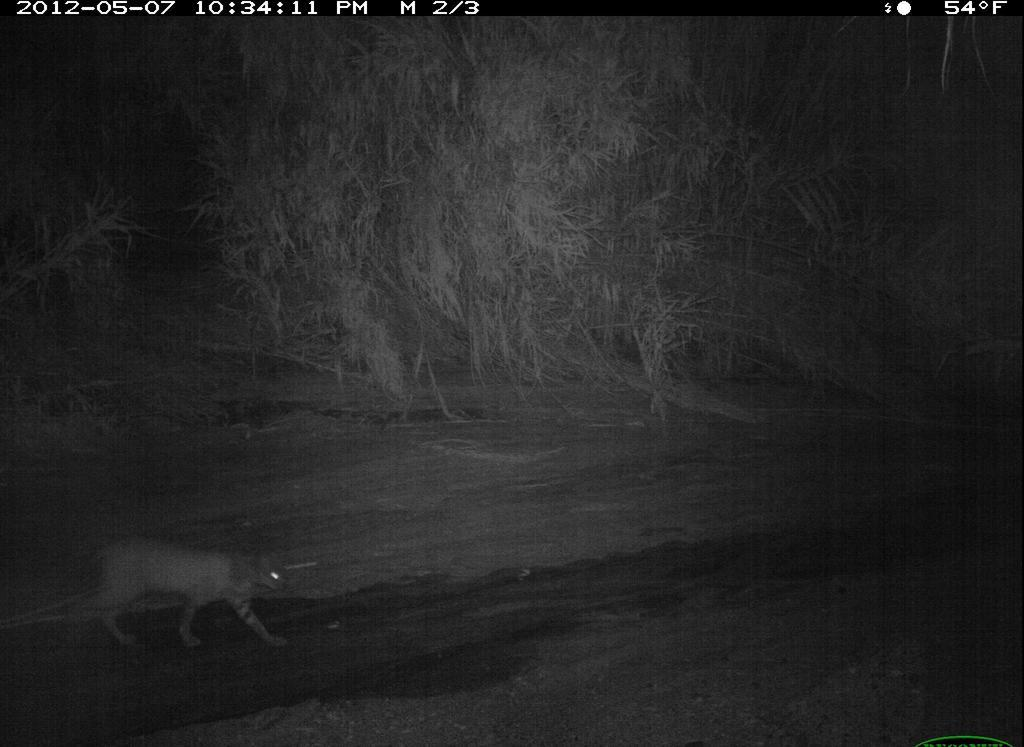bobcat: (54, 515, 319, 673)
